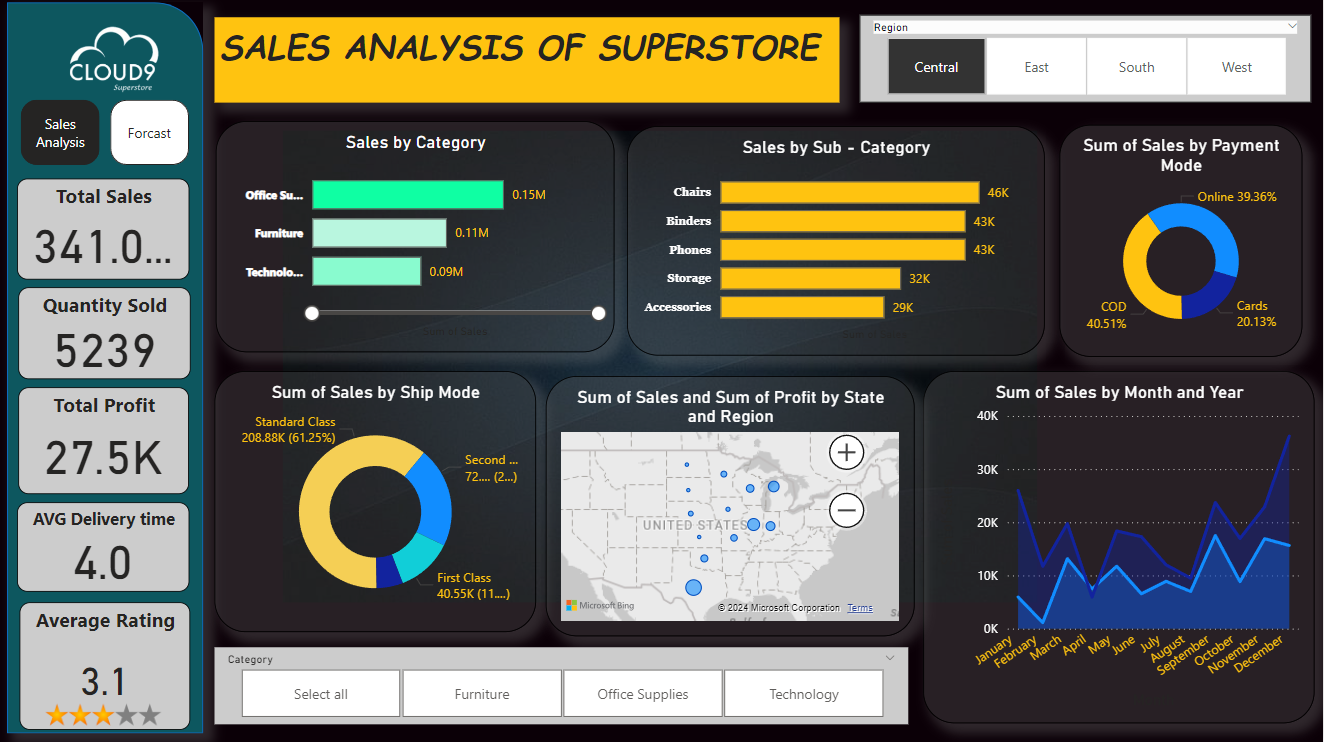

The dashboard page shown, as its layout file describes it:
{"tool":"powerbi","page":{"name":"Sales Analysis","canvas":[1280,720],"ordinal":0},"visuals":[{"type":"shape","box":[9.7,6,189.4,705.8],"z":0},{"type":"card","title":"Total Sales","fields":{"Values":["Sum(Sheet1.Sales)"]},"box":[19.2,175.6,166,97.4],"z":1000},{"type":"card","title":"Total Profit","fields":{"Values":["Sum(Sheet1.Profit)"]},"box":[20.6,377.4,164.7,102.9],"z":2000},{"type":"card","title":"Quantity Sold","fields":{"Values":["Sum(Sheet1.Quantity)"]},"box":[20.6,281.3,166,89.2],"z":3000},{"type":"slicer","fields":{"Values":["Sheet1.Region"]},"box":[832.9,17.8,436.4,85.1],"z":4000},{"type":"image","box":[0,0,223.2,131.5],"z":5000},{"type":"textbox","box":[209.9,20.5,603.2,82],"z":6000},{"type":"clusteredBarChart","title":"Sales by Category","fields":{"Category":["Sheet1.Category"],"Y":["Sum(Sheet1.Sales)"]},"box":[211.1,120.6,384.9,223.2],"z":7000},{"type":"clusteredBarChart","title":"Sales by Sub - Category","fields":{"Y":["Sum(Sheet1.Sales)"],"Category":["Sheet1.Sub-Category"]},"box":[608,125.5,403,222],"z":8000},{"type":"donutChart","fields":{"Category":["Sheet1.Ship Mode","Sheet1.Segment"],"Y":["Sum(Sheet1.Sales)"]},"box":[209.9,361.9,310.1,252.1],"z":9000},{"type":"areaChart","fields":{"Category":["Sheet1.Order Date.Variation.Date Hierarchy.Month"],"Y":["Sum(Sheet1.Sales)"],"Series":["Sheet1.Order Date.Variation.Date Hierarchy.Year"]},"box":[894,361.9,377.6,340.2],"z":10000},{"type":"map","fields":{"Category":["Sheet1.State"],"Series":["Sheet1.Region"],"Size":["Sum(Sheet1.Sales)"]},"box":[529.6,366.8,355.9,250.9],"z":11000},{"type":"donutChart","fields":{"Category":["Sheet1.Payment Mode"],"Y":["Sum(Sheet1.Sales)"]},"box":[1025.5,124.3,234,224.4],"z":12000},{"type":"card","title":"AVG Delivery time","fields":{"Values":["Avg(Sheet1.Averagedelivery)"]},"box":[19.2,488.5,166,86.4],"z":13000},{"type":"card","title":"Average Rating","fields":{"Values":["Avg(Sheet1.Ratings)"]},"box":[22,584.6,164.7,123.5],"z":14000},{"type":"slicer","fields":{"Values":["Sheet1.Category"]},"box":[209.9,628.5,669.6,74.1],"z":15000},{"type":"pageNavigator","box":[23.3,100.2,163.3,63.1],"z":16000},{"type":"image","box":[41.2,665.5,123.5,54.9],"z":17000}]}

Visuals, with their boxes in screenshot pixels (x1, y1, x2, y2), scaled from the page's 1280x720 canvas onto the 1324x742 screenshot:
shape: 10/6/206/734
"Total Sales" card: 20/181/192/281
"Total Profit" card: 21/389/192/495
"Quantity Sold" card: 21/290/193/382
slicer - Sheet1.Region: 862/18/1313/106
image: 0/0/231/136
textbox: 217/21/841/106
"Sales by Category" clusteredBarChart: 218/124/616/354
"Sales by Sub - Category" clusteredBarChart: 629/129/1046/358
donutChart - Sheet1.Ship Mode x Sheet1.Segment: 217/373/538/633
areaChart - Sheet1.Order Date.Variation.Date Hierarchy.Month x Sum(Sheet1.Sales): 925/373/1315/724
map - Sheet1.State x Sheet1.Region: 548/378/916/637
donutChart - Sheet1.Payment Mode x Sum(Sheet1.Sales): 1061/128/1303/359
"AVG Delivery time" card: 20/503/192/592
"Average Rating" card: 23/602/193/730
slicer - Sheet1.Category: 217/648/910/724
pageNavigator: 24/103/193/168
image: 43/686/170/741
